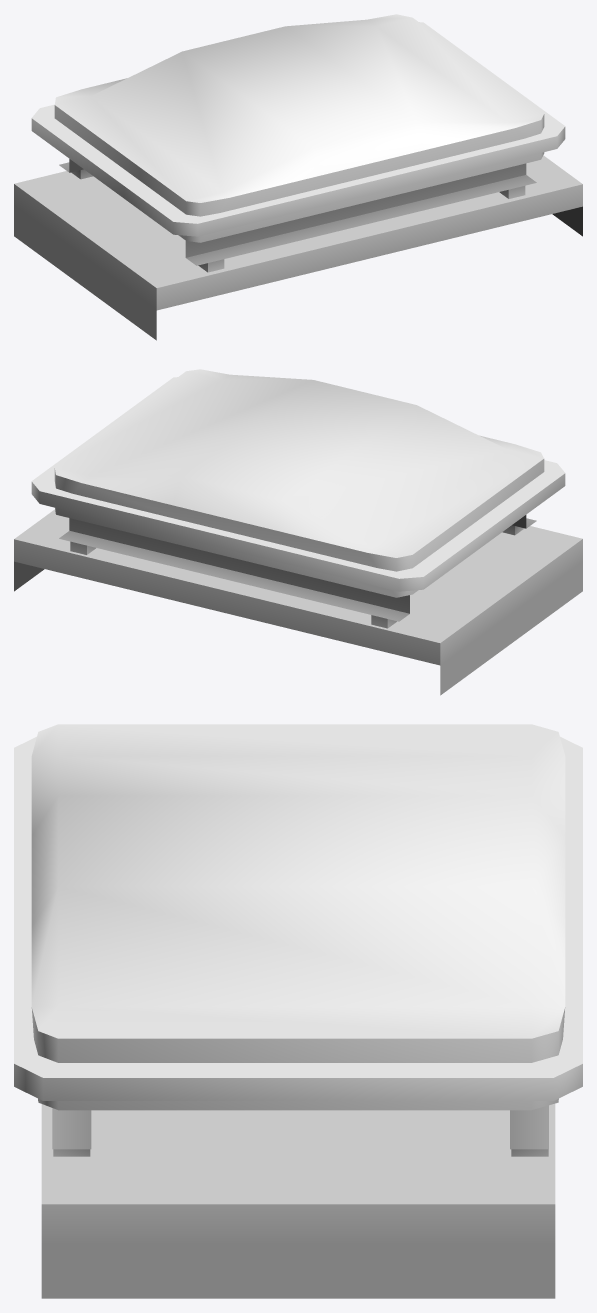
File: E233_PANTA0.glb
3 renders of one model, top to bottom at view 1: azimuth 30°, elevation 25°; view 2: azimuth 150°, elevation 25°; view 3: azimuth 270°, elevation 25°, orthographic. The views are drawn at different scales.
Parts seen in each view (by area): view 1: Mesh1; view 2: Mesh1; view 3: Mesh1.
Boxes of the visible parts, <box> form: Mesh1: <box>14,14,582,340</box>; Mesh1: <box>14,369,582,695</box>; Mesh1: <box>14,724,582,1298</box>.
Bounding box in the file's own units: 1 × 0.3366 × 0.6421.
Materials: 3 (3 with a texture image).
